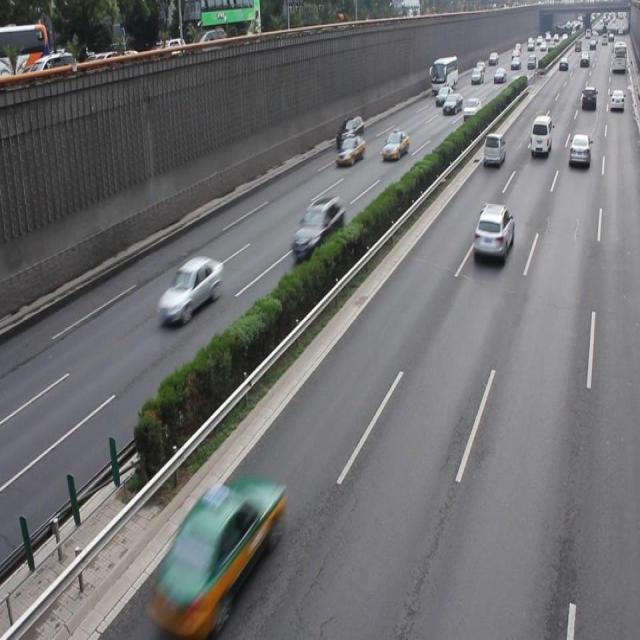car: (155, 474, 282, 640), (158, 254, 222, 324), (291, 198, 345, 262), (472, 203, 514, 264), (334, 133, 364, 167), (483, 132, 505, 167), (381, 130, 408, 158), (566, 132, 588, 164)
